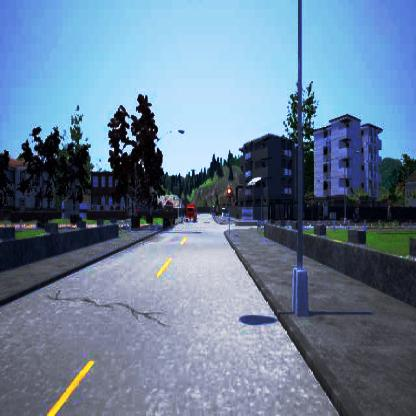vehicle: (185, 202, 197, 221)
